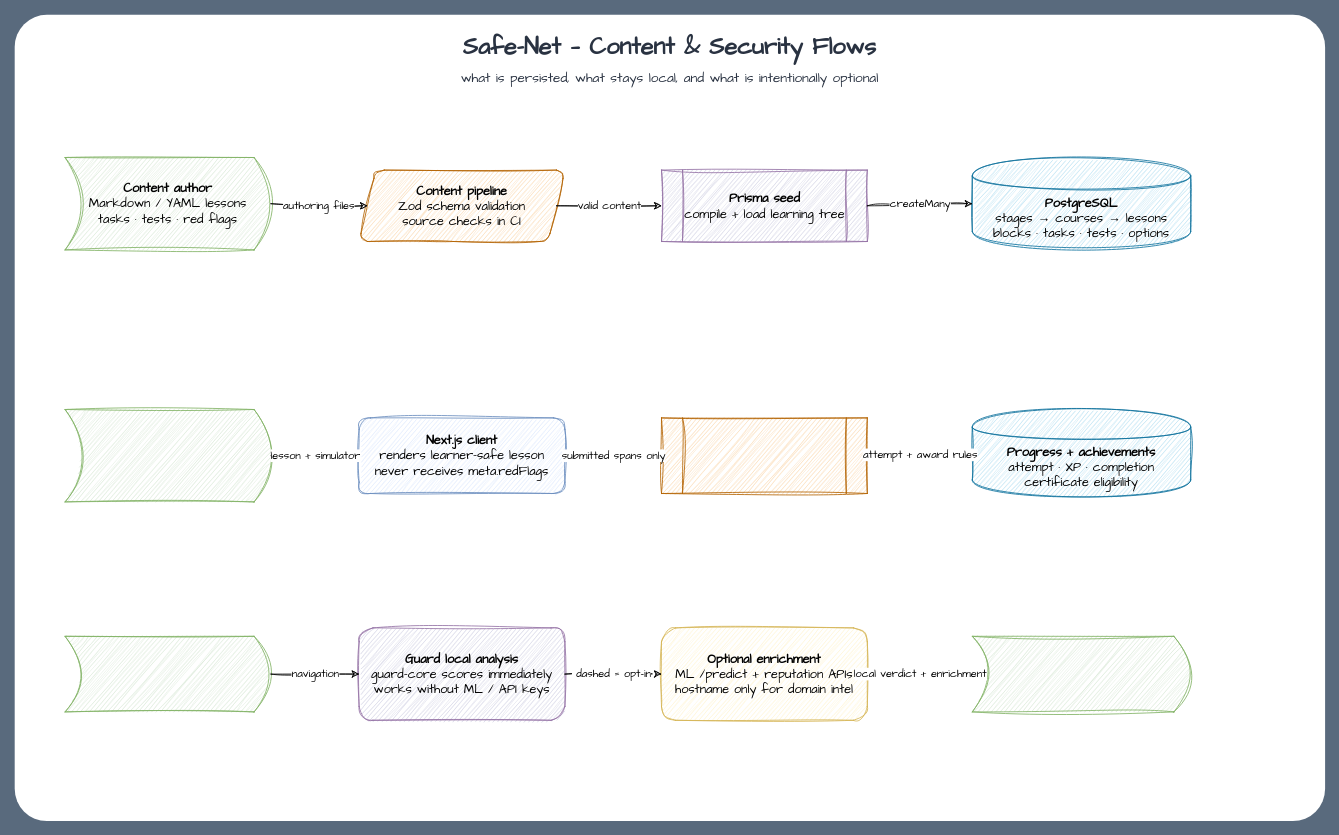
This 1339x835 diagram has some shape labels left out. Here are the shapes that lost their labels. From the top down, the centre of each, then its label:
At (x=167, y=455): "Learner opens lesson / simulator highlights suspicious spans".
At (x=764, y=455): "NestJS grading compares submitted spans against protected answer key".
At (x=167, y=673): "URL navigation browser URL + DOM context".
At (x=1081, y=673): "Visible result risk level · signals · warning user decides how to proceed".
